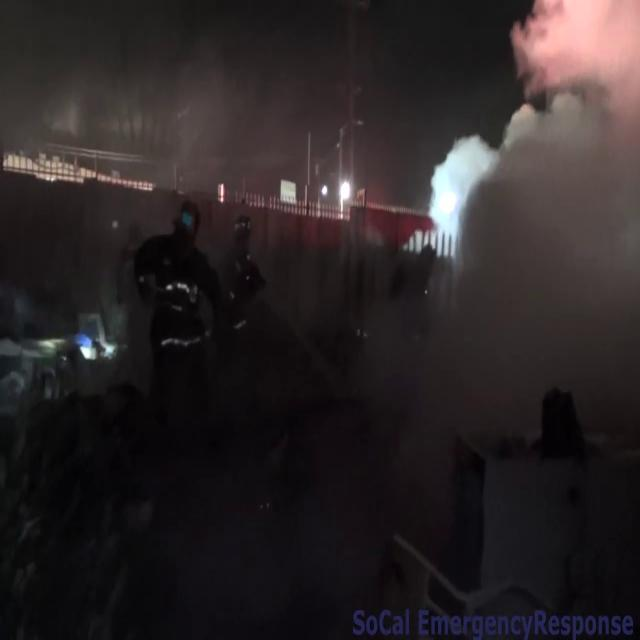Smoke: (407, 0, 640, 416)
